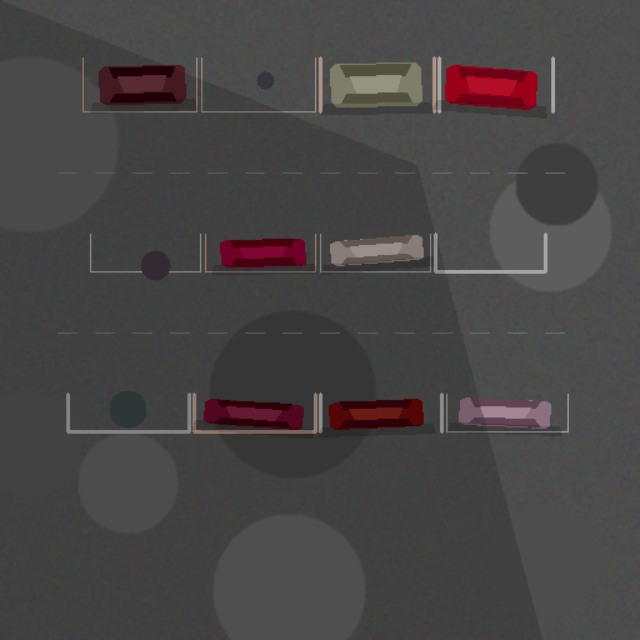space-empty: (201, 58, 315, 111), (67, 394, 189, 431), (90, 234, 200, 271), (435, 234, 545, 271)
space-occupied: (82, 58, 196, 111), (320, 58, 434, 111), (439, 58, 552, 111), (194, 394, 315, 431), (320, 394, 441, 431), (446, 394, 567, 431), (205, 234, 315, 271), (320, 234, 430, 271)
